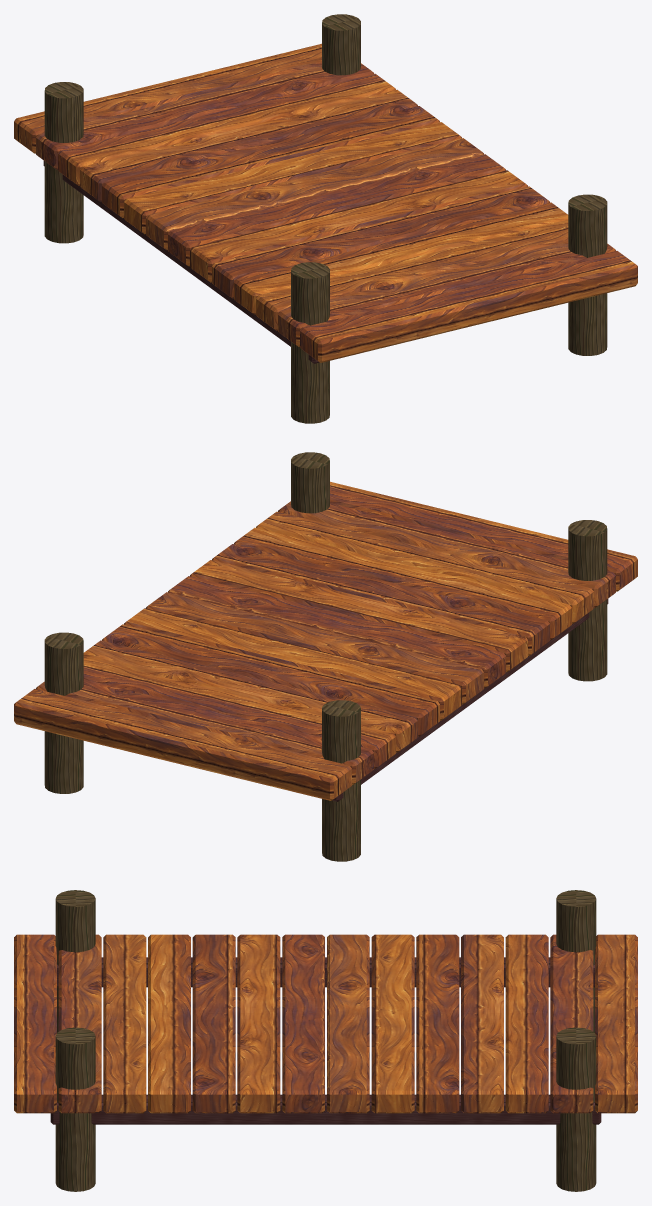
Rendered from Dock_Section.fbx.
3 renders of one model, top to bottom at view 1: azimuth 30°, elevation 25°; view 2: azimuth 150°, elevation 25°; view 3: azimuth 270°, elevation 25°, orthographic.
Visible parts, largest first — view 1: Dock individual plank, Dock individual plank.008, Dock individual plank.010, Dock individual plank.011, Dock individual plank.007, Dock individual plank.004, Dock individual plank.005, Dock individual plank.006, Dock individual plank.009, Dock individual plank.003, Dock individual plank.012, Dock individual plank.002 (+7 smaller); view 2: Dock individual plank.013, Dock individual plank.005, Dock individual plank.002, Dock individual plank.003, Dock individual plank.006, Dock individual plank.008, Dock individual plank.009, Dock individual plank.004, Dock individual plank.007, Dock individual plank.010, Dock individual plank.001, Dock individual plank.011 (+7 smaller); view 3: Dock individual plank.002, Dock individual plank.005, Dock individual plank.008, Dock individual plank.011, Dock individual plank.004, Dock individual plank.009, Dock individual plank.006, Dock individual plank.007, Dock individual plank.003, Dock individual plank.010, Dock individual plank, Dock individual plank.013 (+8 smaller).
Part boxes in pixels (x1,y1,x2,y2): Dock individual plank: (300, 251, 637, 362); Dock individual plank.008: (124, 122, 461, 234); Dock individual plank.010: (80, 89, 417, 201); Dock individual plank.011: (58, 73, 395, 185); Dock individual plank.007: (146, 138, 483, 250); Dock individual plank.004: (212, 186, 549, 298); Dock individual plank.005: (190, 170, 527, 282); Dock individual plank.006: (168, 154, 505, 266); Dock individual plank.009: (102, 106, 439, 217); Dock individual plank.003: (234, 202, 568, 314); Dock individual plank.012: (36, 63, 373, 169); Dock individual plank.002: (256, 220, 568, 330); Dock individual plank.013: (14, 689, 351, 800); Dock individual plank.005: (190, 560, 527, 672); Dock individual plank.002: (256, 511, 593, 623); Dock individual plank.003: (234, 527, 571, 639); Dock individual plank.006: (168, 576, 505, 688); Dock individual plank.008: (124, 608, 461, 720); Dock individual plank.009: (102, 624, 439, 736); Dock individual plank.004: (212, 544, 549, 655); Dock individual plank.007: (146, 592, 483, 704); Dock individual plank.010: (83, 640, 417, 752); Dock individual plank.001: (278, 501, 615, 607); Dock individual plank.011: (83, 658, 395, 768); Dock individual plank.002: (103, 934, 146, 1113); Dock individual plank.005: (237, 934, 280, 1113); Dock individual plank.008: (371, 934, 414, 1113); Dock individual plank.011: (505, 934, 548, 1113); Dock individual plank.004: (192, 934, 235, 1113); Dock individual plank.009: (416, 934, 459, 1113); Dock individual plank.006: (282, 934, 324, 1113); Dock individual plank.007: (327, 934, 369, 1113); Dock individual plank.003: (148, 934, 190, 1113); Dock individual plank.010: (461, 934, 503, 1113); Dock individual plank: (14, 934, 56, 1113); Dock individual plank.013: (595, 934, 637, 1113).
Size of the model in its own units: 300 by 130 by 499.
